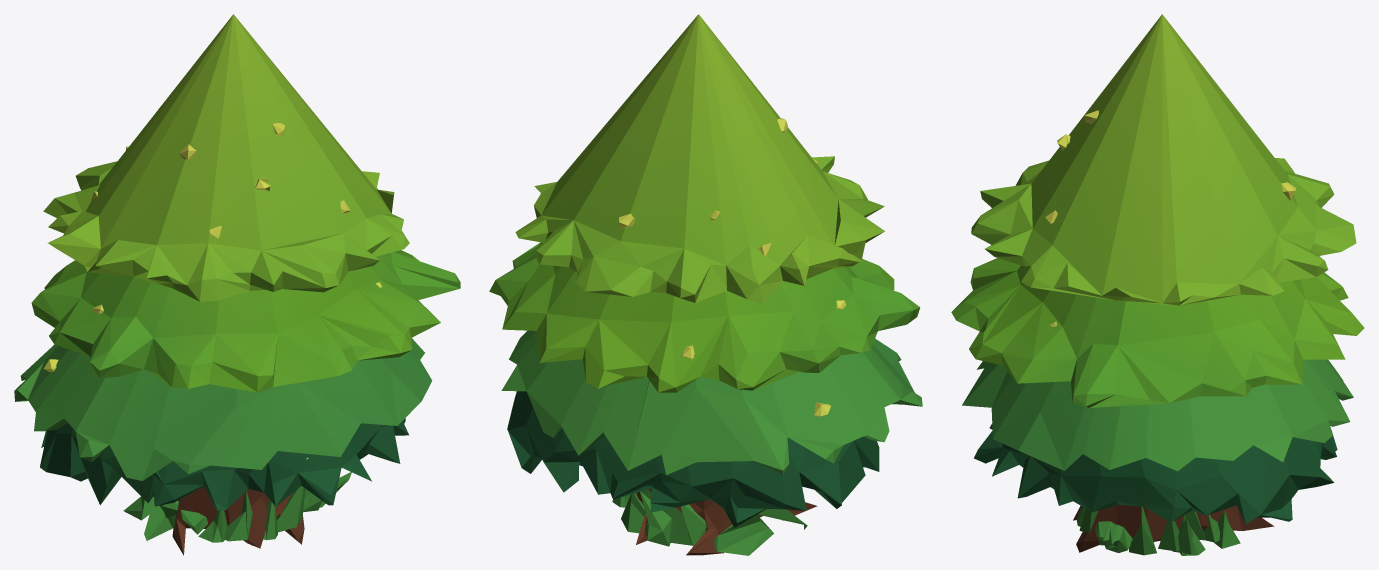
The model's file is tree.glb.
3 renders of one model, left to right at view 1: azimuth 30°, elevation 25°; view 2: azimuth 150°, elevation 25°; view 3: azimuth 270°, elevation 25°, orthographic. The views are drawn at different scales.
Parts seen in each view (by area): view 1: Cone; view 2: Cone; view 3: Cone.
Boxes of the visible parts, box(x1,y1,x2,y2) form: Cone: box(14, 14, 460, 555); Cone: box(489, 14, 922, 555); Cone: box(951, 14, 1364, 555).
Bounding box in the file's own units: 1.12 × 1.42 × 1.02.
